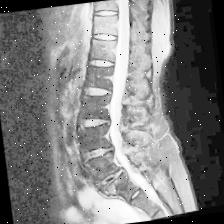disc: (82, 80, 116, 104), (90, 28, 122, 47), (89, 53, 119, 73), (94, 5, 122, 22)
hdisc: (92, 164, 132, 188), (83, 141, 119, 163), (80, 112, 113, 134)
